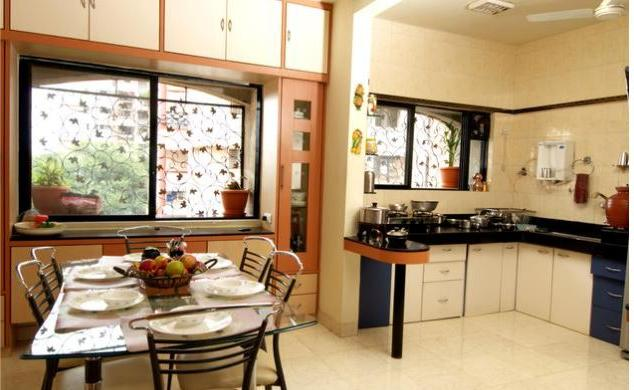TV: (25, 254, 322, 390)
chair: (9, 259, 135, 390), (133, 294, 280, 390), (226, 250, 320, 390), (226, 231, 280, 292), (119, 221, 188, 268), (25, 237, 66, 301)
fan: (520, 0, 634, 35)
